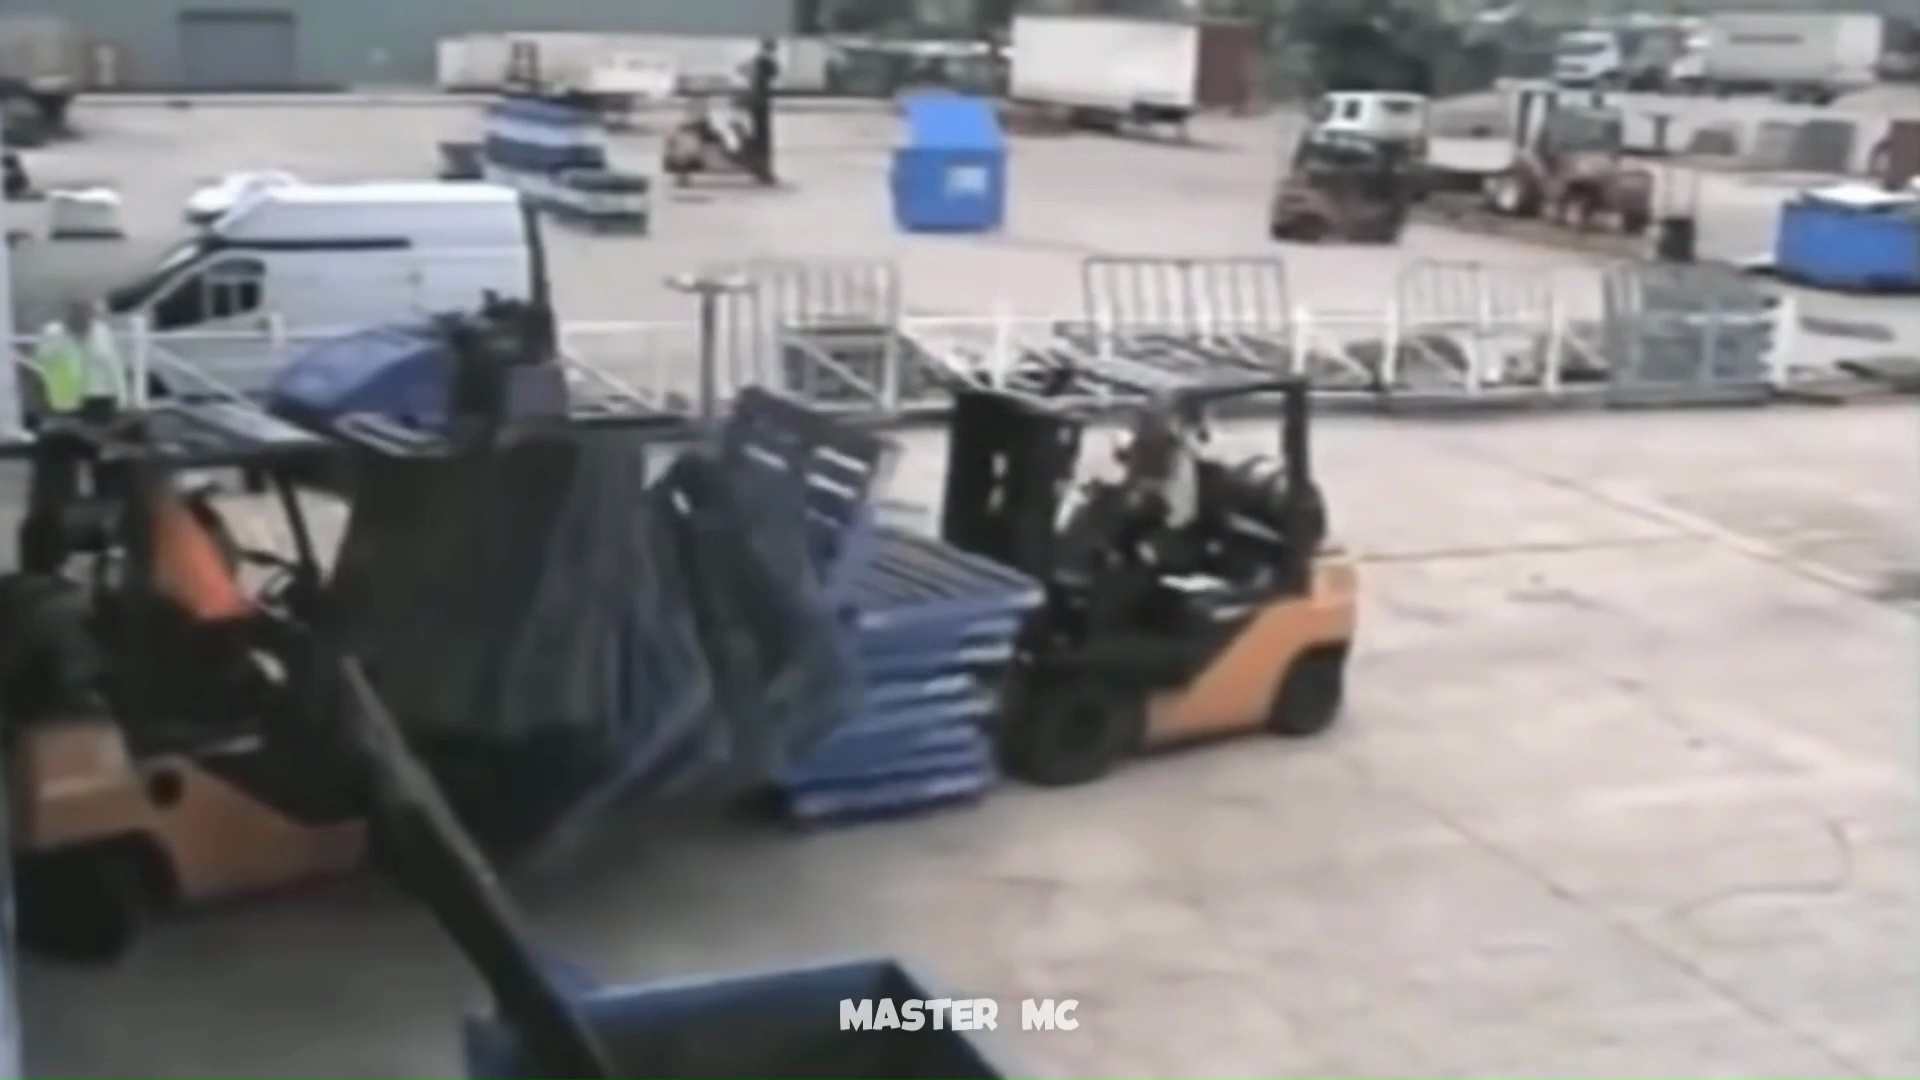forklift: (3, 388, 758, 953), (694, 351, 1338, 819)
